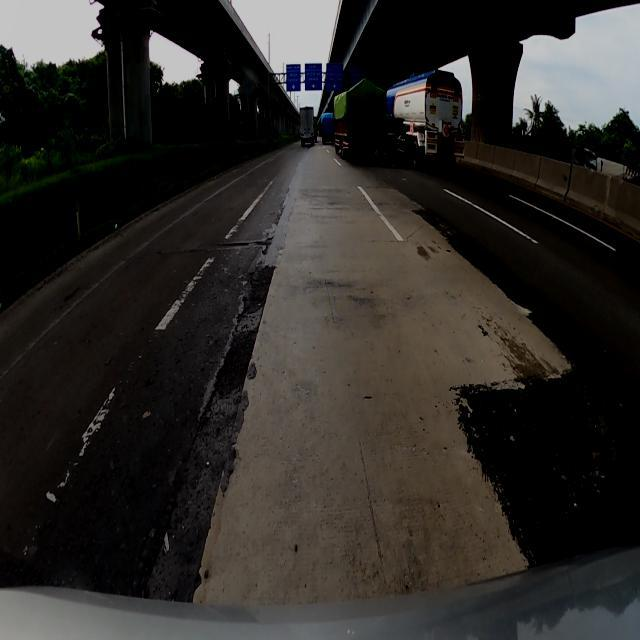Buraco: (211, 322, 260, 400), (233, 260, 280, 324), (254, 236, 276, 256), (61, 286, 82, 304), (213, 241, 251, 248)
